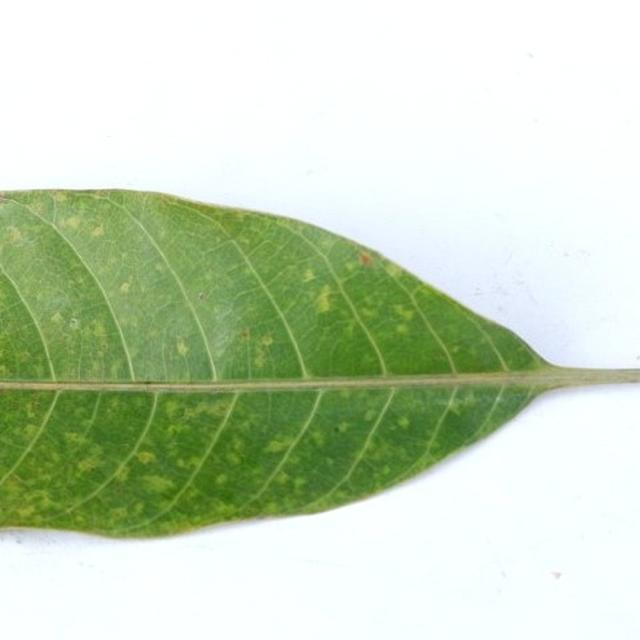Mango: (0, 189, 639, 542)
Powdery_Mildew: (101, 458, 138, 492), (252, 336, 277, 373), (143, 475, 174, 493), (76, 455, 105, 474), (27, 489, 52, 508), (3, 224, 24, 244), (315, 289, 333, 312), (63, 431, 88, 447), (267, 437, 291, 452), (394, 305, 416, 321), (16, 504, 39, 518), (62, 215, 83, 230), (135, 451, 156, 465), (310, 431, 327, 448), (383, 263, 401, 278), (22, 423, 40, 438), (109, 507, 128, 520), (93, 324, 108, 340), (229, 436, 244, 452), (164, 400, 180, 415), (176, 340, 189, 357), (50, 310, 64, 325), (448, 403, 463, 417), (165, 424, 181, 437), (226, 452, 242, 465), (90, 224, 105, 237), (17, 349, 31, 362), (358, 253, 372, 266), (302, 271, 317, 283), (276, 472, 291, 484), (361, 307, 376, 319), (260, 335, 274, 347), (364, 409, 378, 421), (292, 477, 306, 489), (188, 459, 203, 470), (53, 192, 69, 202), (119, 281, 132, 293), (397, 416, 410, 428), (395, 324, 409, 335), (215, 474, 229, 485), (344, 325, 355, 339), (337, 421, 350, 432), (94, 189, 111, 197), (238, 328, 250, 339), (266, 502, 279, 512), (69, 317, 79, 328), (381, 465, 391, 475), (31, 400, 42, 409), (155, 265, 165, 274), (325, 457, 335, 466), (198, 292, 208, 301), (451, 345, 461, 353), (0, 365, 8, 375)
